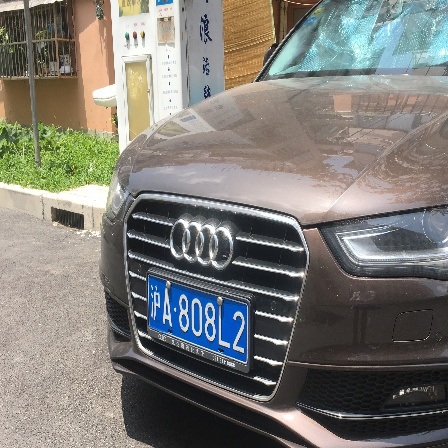plate: (140, 269, 253, 371)
